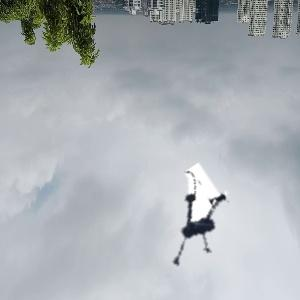drone: (142, 178, 245, 281)
